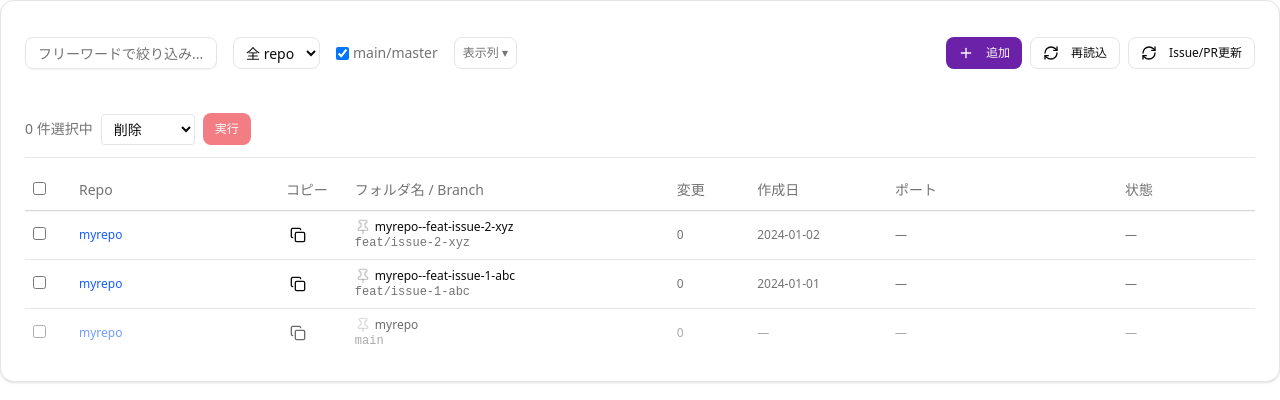
TreesPage - checkbox and bulk action › deselects all when header checkbox clicked while all selected
Click the checkbox named "全選択" at (40, 188), box [33,182,46,195]
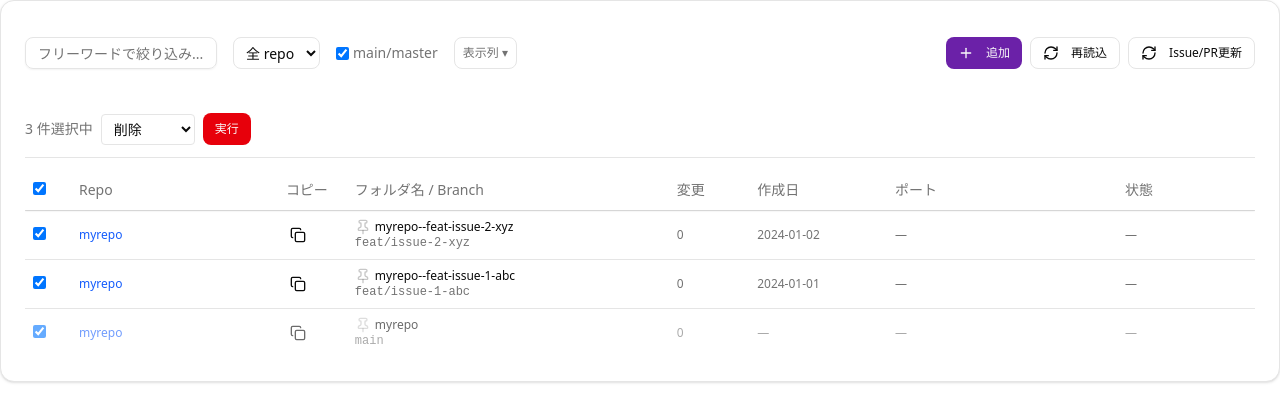
Result: the text "3 件選択中" is shown at [25,119,93,139]
Click the checkbox named "全選択" at (40, 188), box [33,182,46,195]
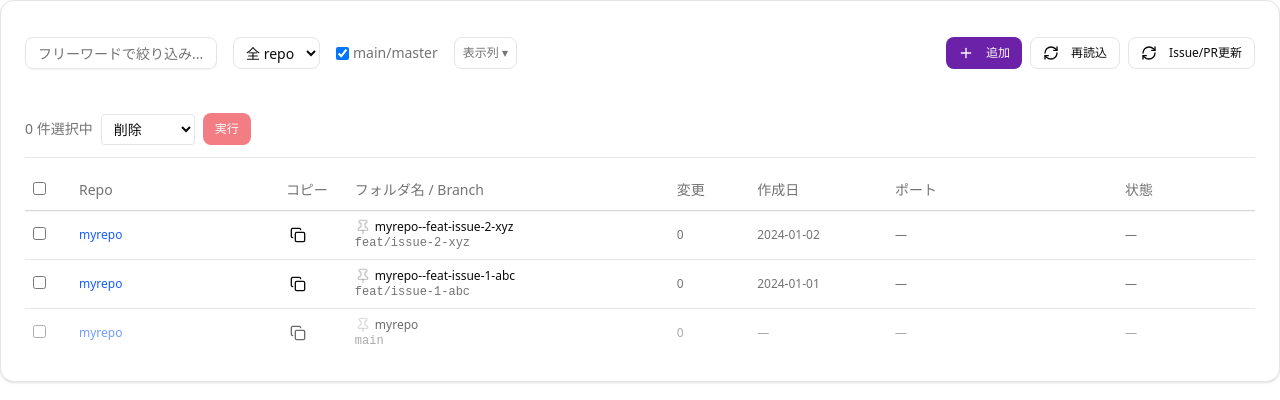
Result: the text "0 件選択中" is shown at [25,119,93,139]
